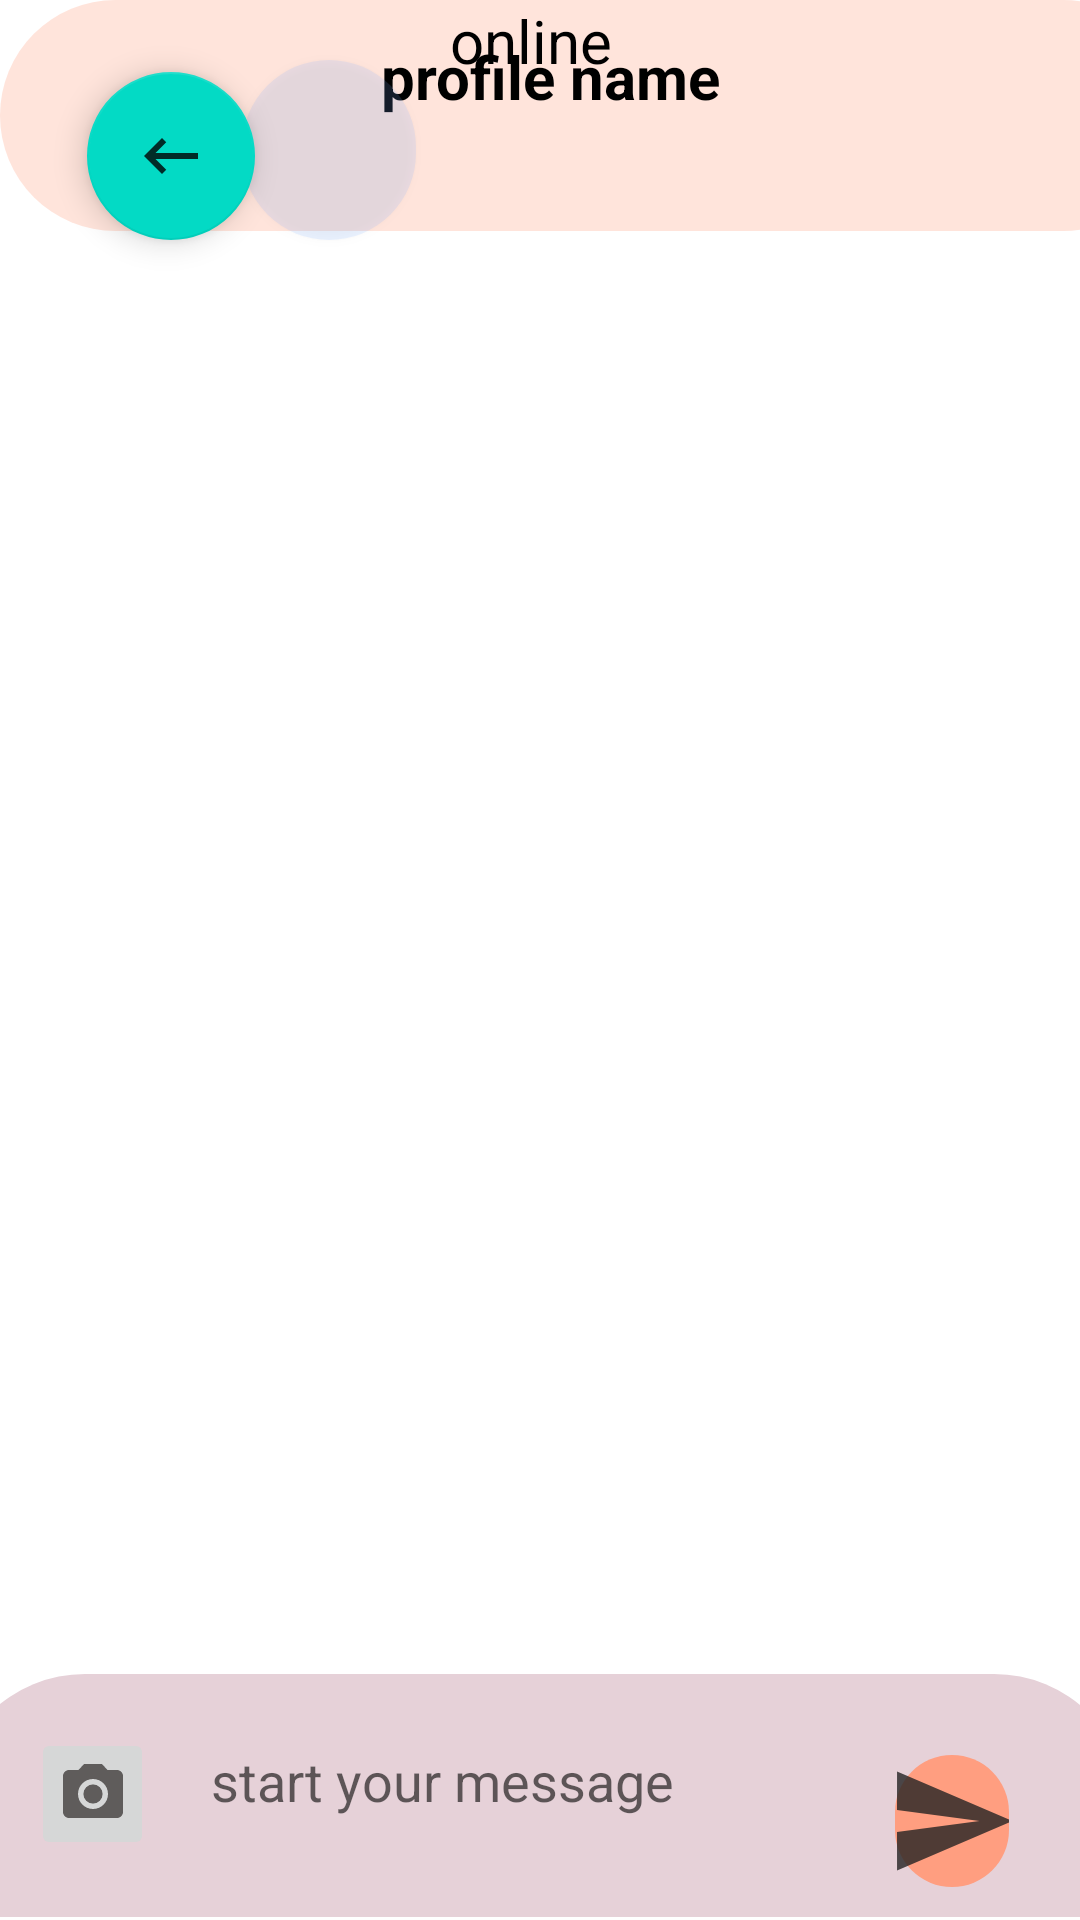

Point at icon controls on the screen. Image size 1080px×1920px, points as [x,y].
camera: [93,1791]
keyboard backspace: [171,156]
send: [952,1821]
